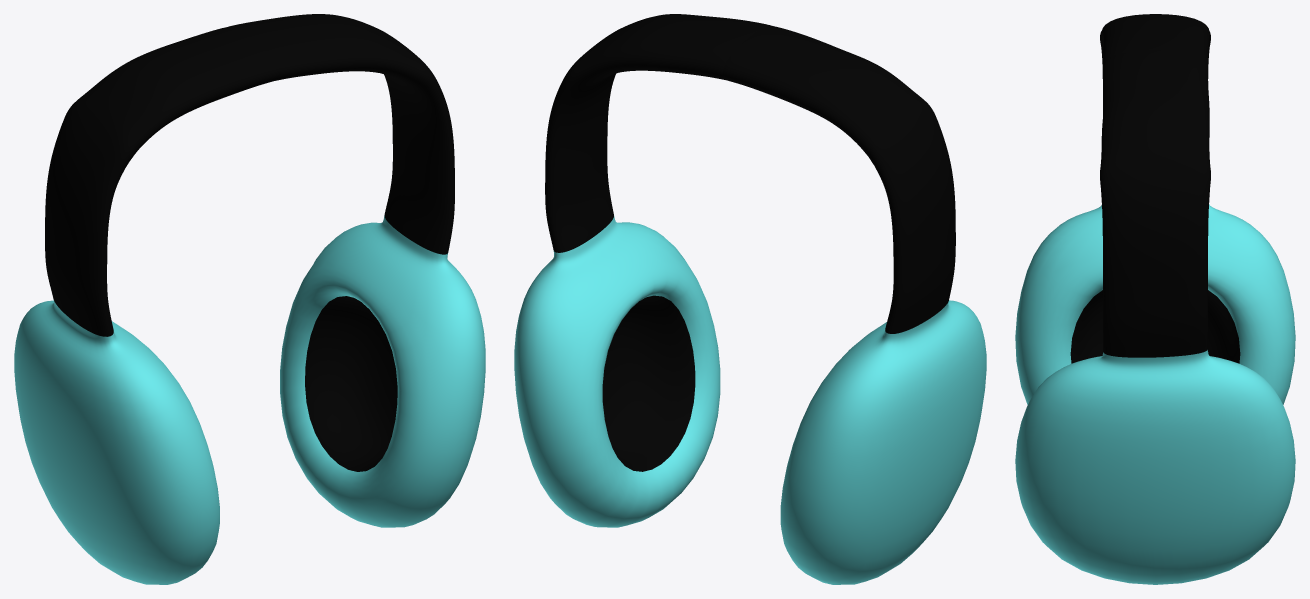
The model's file is Cascos.fbx.
3 views of the same model, side by side, from view 1: azimuth 30°, elevation 25°; view 2: azimuth 150°, elevation 25°; view 3: azimuth 270°, elevation 25° (orthographic). The views are drawn at different scales.
Visible parts, largest first — view 1: Cascos; view 2: Cascos; view 3: Cascos.
Part boxes in pixels (bbox=[...]): Cascos: bbox=[14, 14, 485, 584]; Cascos: bbox=[514, 14, 986, 584]; Cascos: bbox=[1015, 14, 1295, 584].
Size of the model in its own units: 0.9552 by 1.17 by 0.623.
